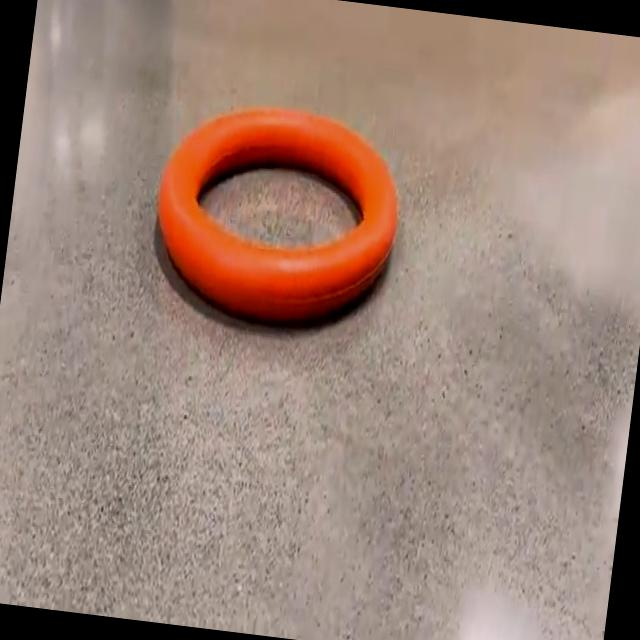note: (158, 107, 397, 321)
